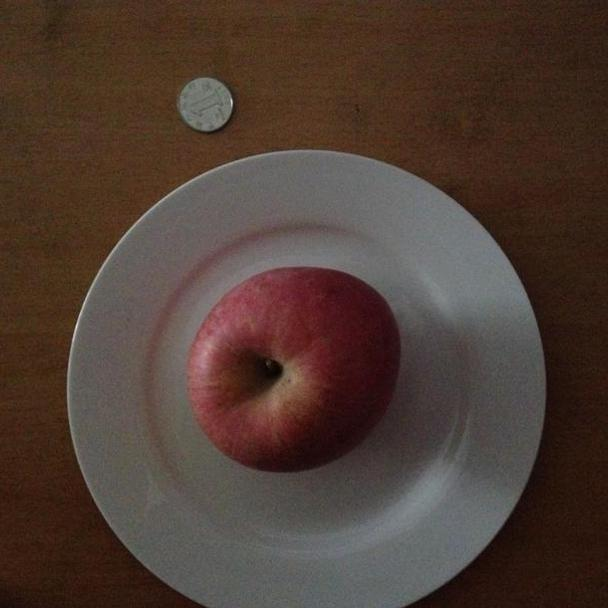apple: (186, 266, 400, 473)
